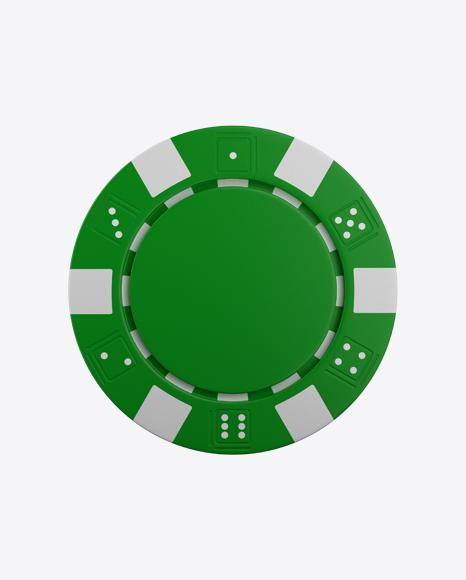chip-green: (69, 126, 396, 453)
